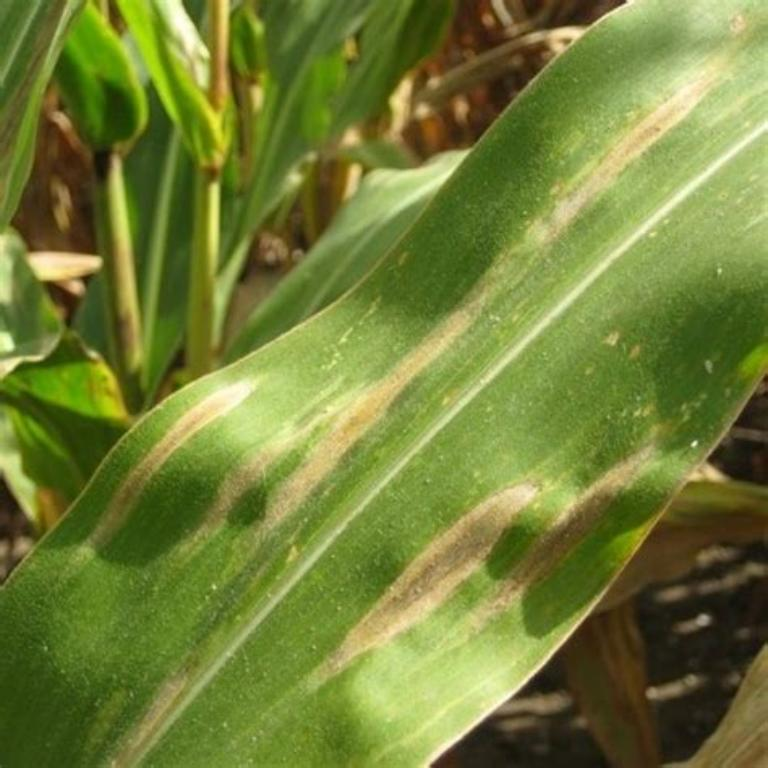blight: (334, 403, 620, 571)
